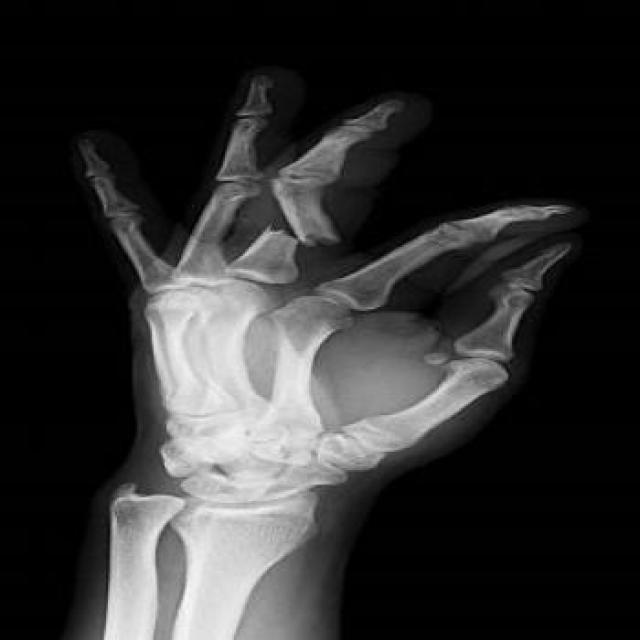fracture: (240, 220, 366, 253)
